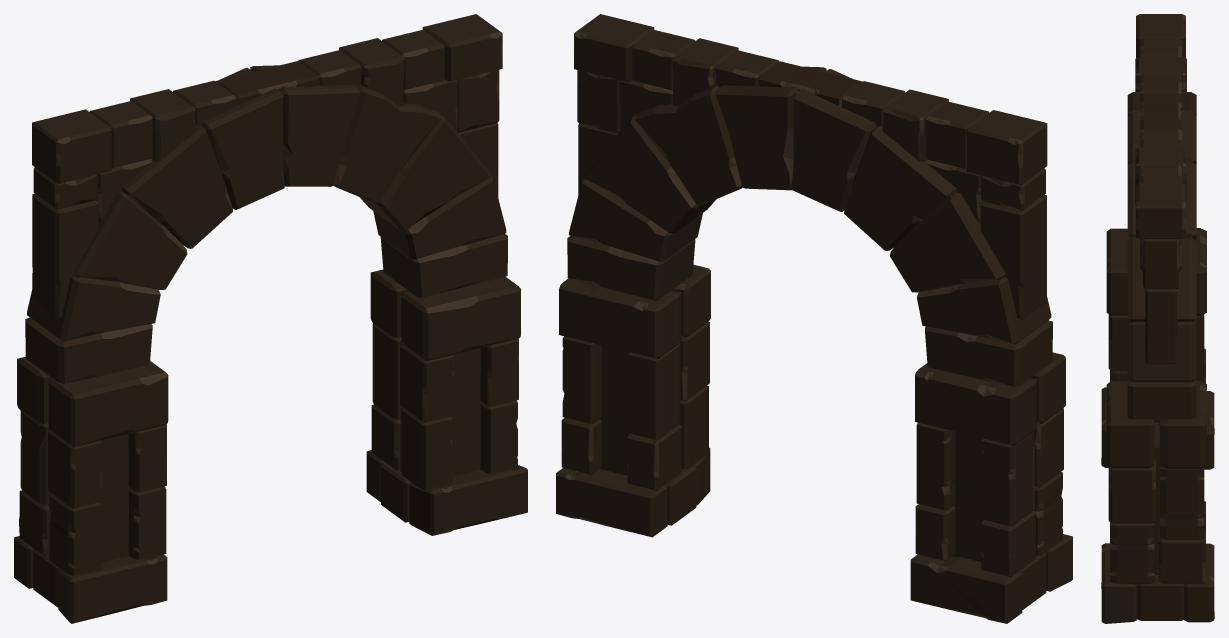
Rendered from Arch.obj.
The picture shows the model from 3 angles, left to right: view 1: azimuth 30°, elevation 25°; view 2: azimuth 150°, elevation 25°; view 3: azimuth 270°, elevation 25°; orthographic projection. The views are drawn at different scales.
Visible parts, largest first — view 1: Arch; view 2: Arch; view 3: Arch.
Boxes of the visible parts, x1,y1,x2,y2 form: Arch: [14, 14, 527, 623]; Arch: [556, 14, 1072, 623]; Arch: [1101, 14, 1214, 623].
Size of the model in its own units: 4.1 by 4.01 by 0.9926.
